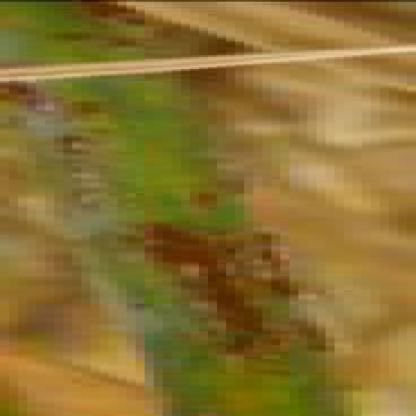wheat Stem Rust: (135, 215, 298, 349), (31, 6, 186, 58), (0, 75, 125, 125), (26, 132, 114, 156)
